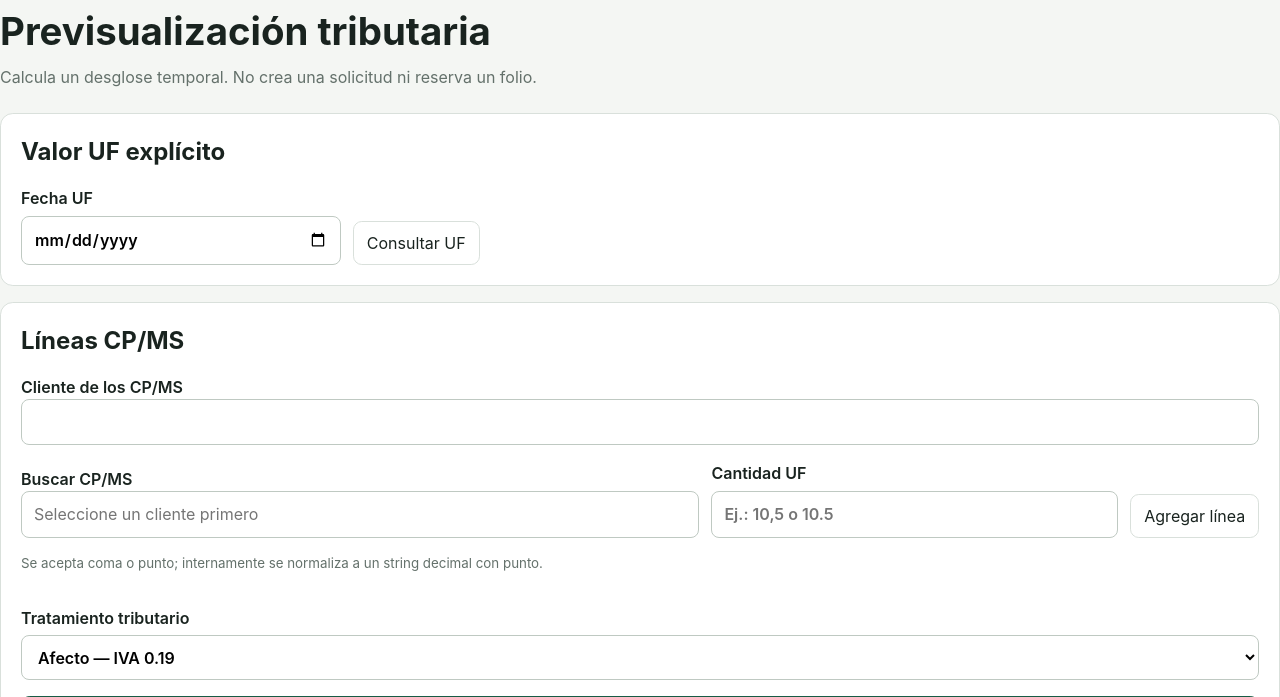
Test: previsualización técnica frontend › cambia a exento, valida decimal y presenta error de proveedor
This screenshot has width=1280, height=697.
Select "Exento — IVA 0" in the dropdown labelled "Tratamiento tributario" at coordinates (640, 658), box [21, 635, 1259, 680]
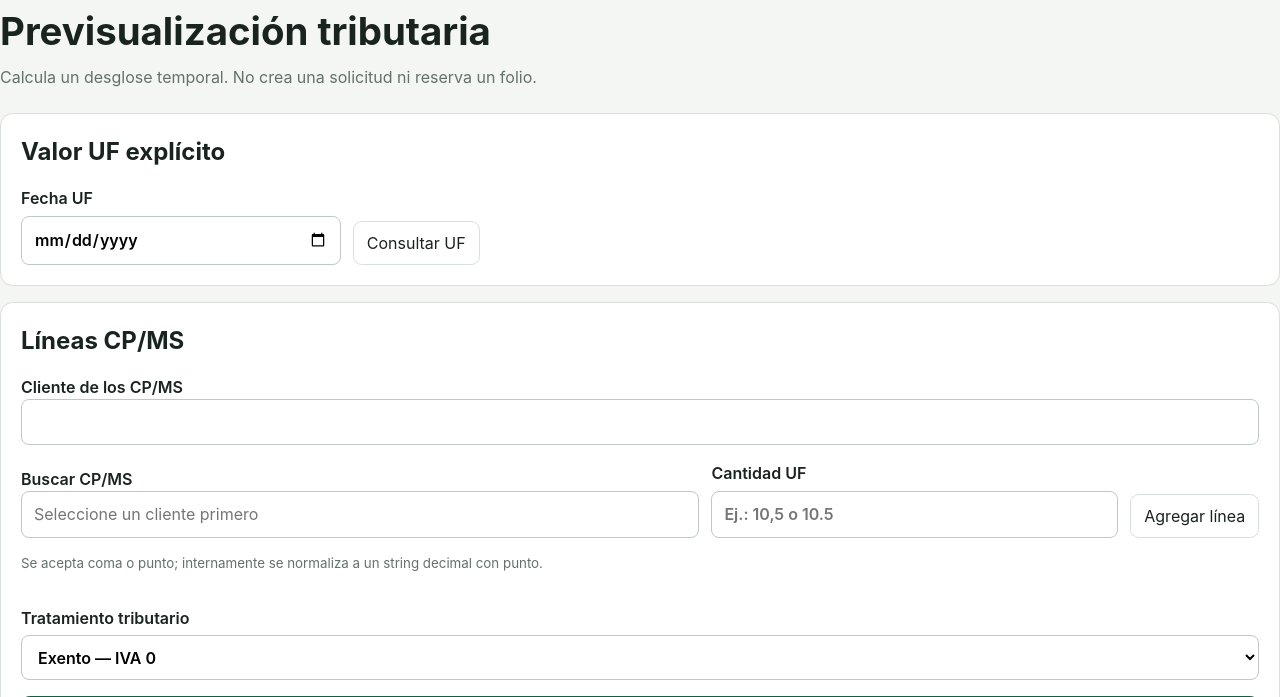
Click the button "Agregar línea".
click(1195, 516)  # box [1130, 494, 1259, 538]
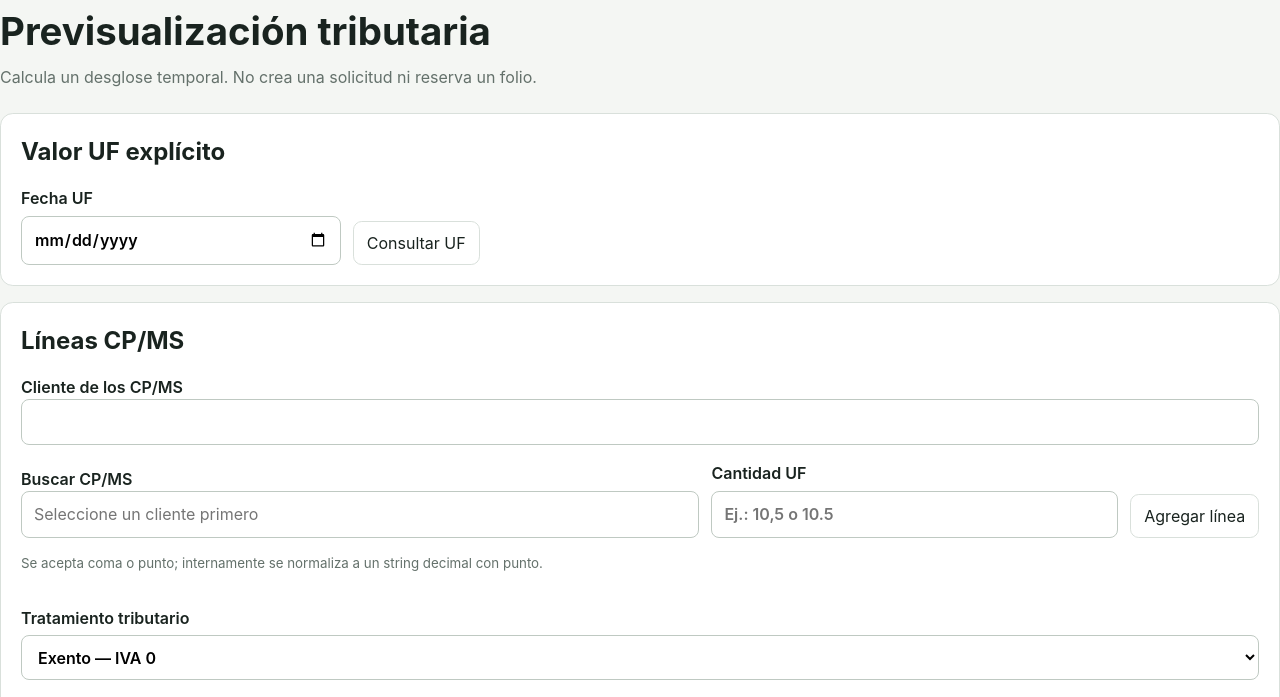
Type "2024-01-10" into the date field labelled "Fecha UF".
click(181, 240); type("2024-01-10")  # box [21, 216, 341, 265]
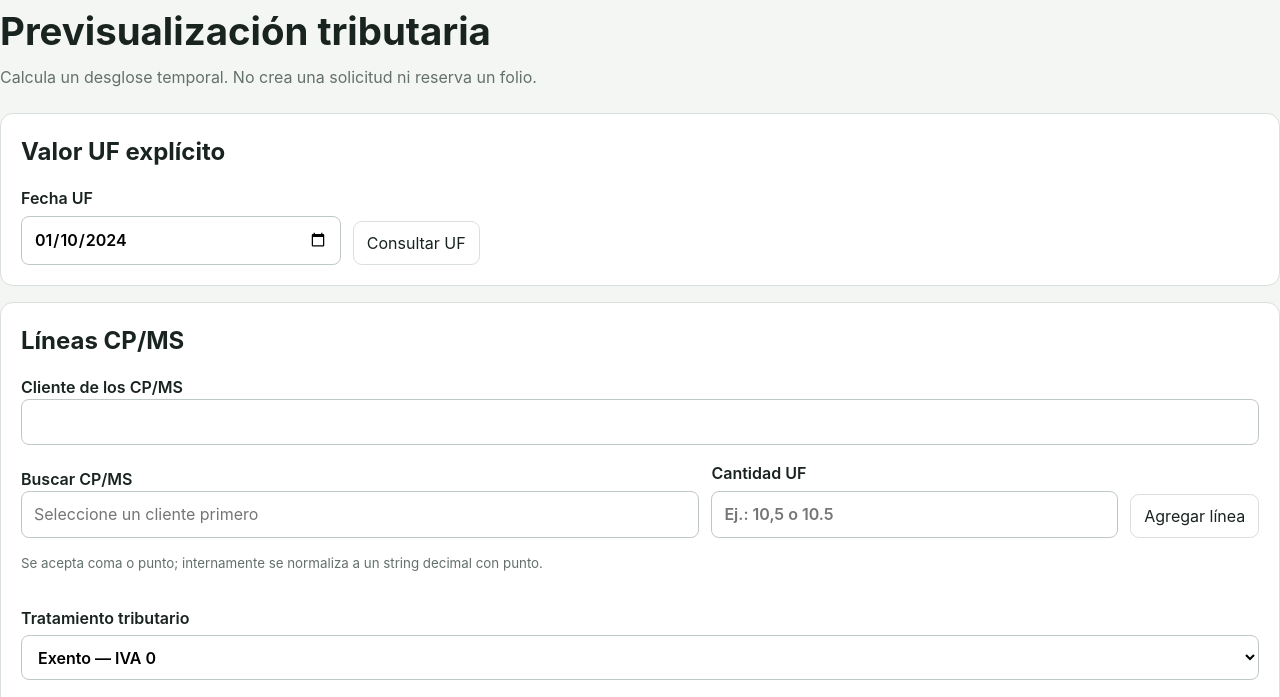
Click the button "Consultar UF".
click(416, 243)  # box [353, 221, 480, 265]
(page scrolled)
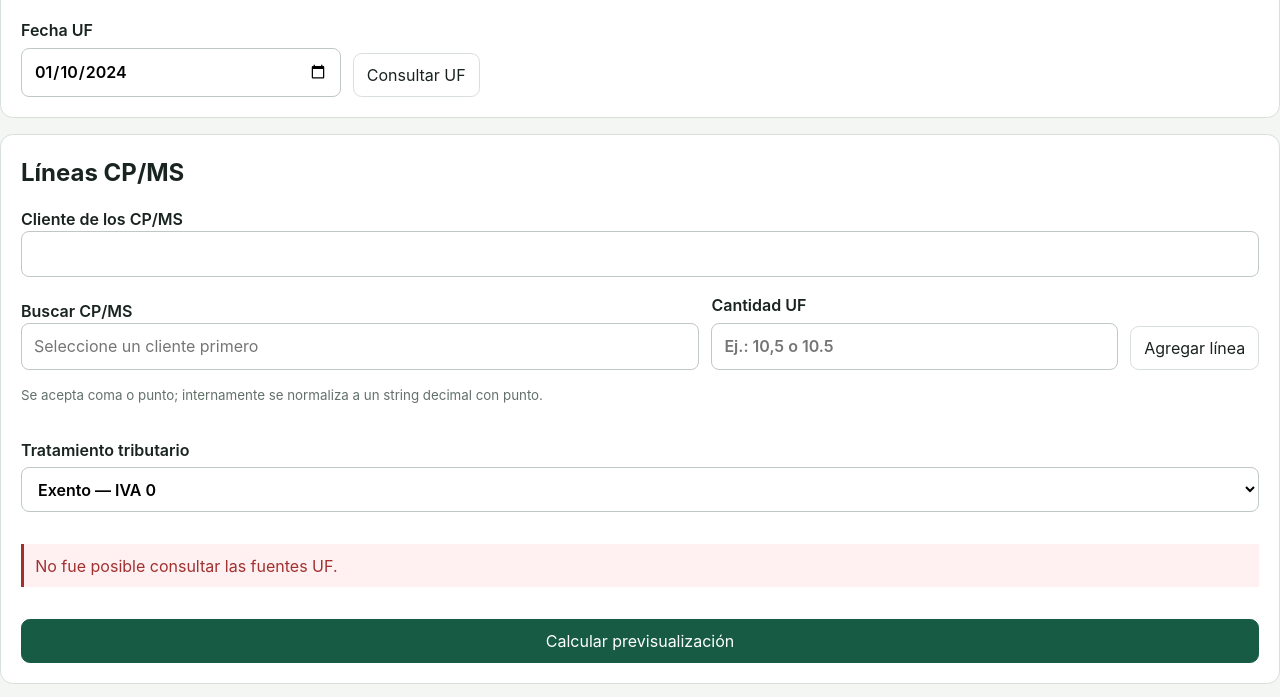
Expected: the message shows "fuentes UF", [35, 556, 338, 576]
